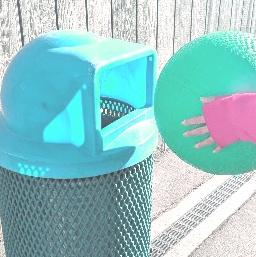algae: (159, 27, 256, 174)
